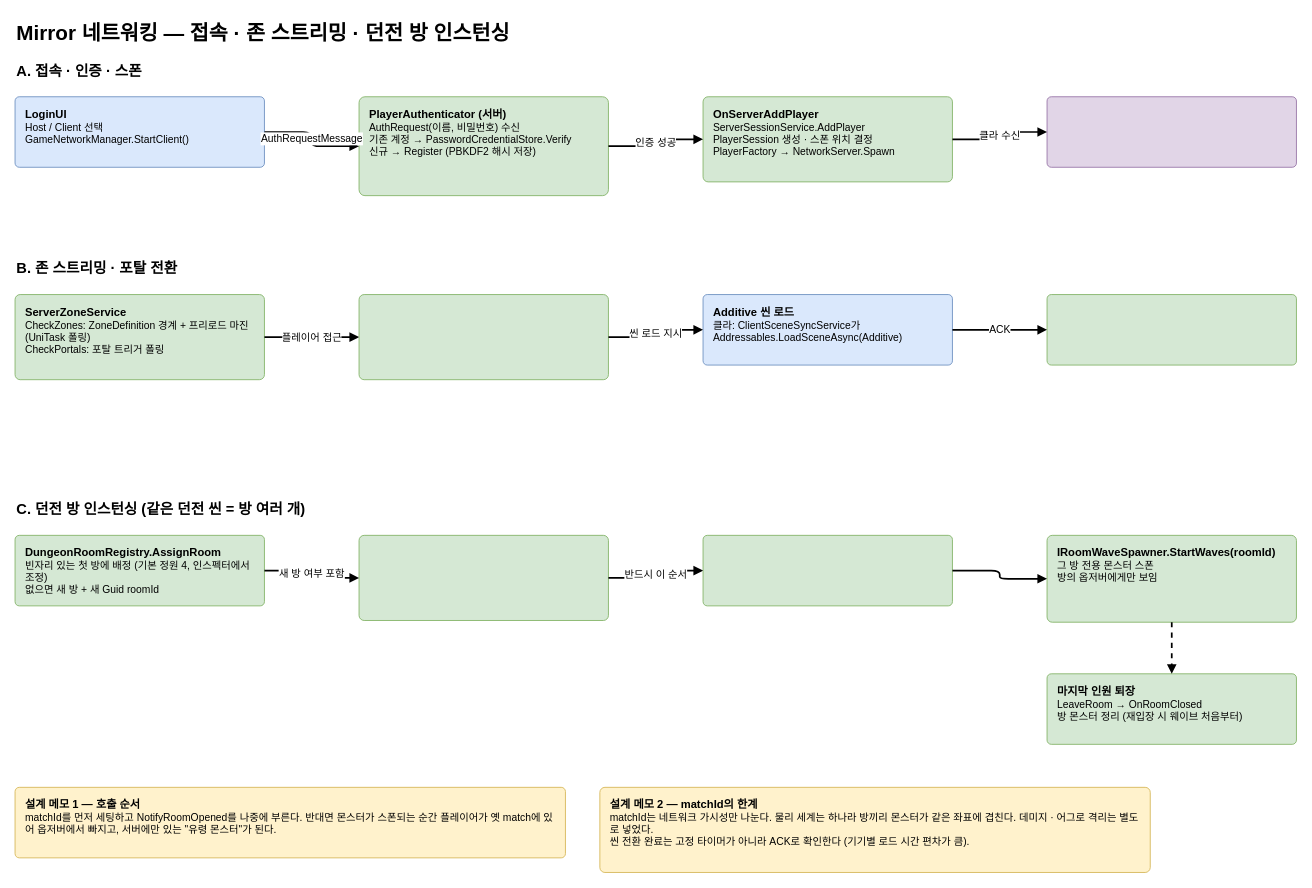
Image size: 1312x888. Some labels were removed from this diagram. The box of each missing label's shape, as (x1, y1, x2, y2) in pixels:
AuthStateChangedEvent MessagePipe로 발행 UIManager가 LoginUI 닫고 MenuUI 열기: (1046, 96, 1296, 167)
matchId 세팅 networkMatch.matchId = roomId MatchInterestManagement가 같은 방만 옵저버로 묶음: (358, 534, 608, 620)
NotifyRoomOpened OnRoomOpened 발행 GameNetworkManager가 수신: (702, 534, 952, 606)
PortalSceneLoadedAck 클라가 로드 완료를 서버에 통보 서버: PlayerChangedScene → 위치 이동: (1046, 294, 1296, 365)
포탈 진입 ZonePortalTrigger → OnPortalTriggerEntered ZonePortalSO 정의에 따라 목적지 씬 결정: (358, 294, 608, 380)
